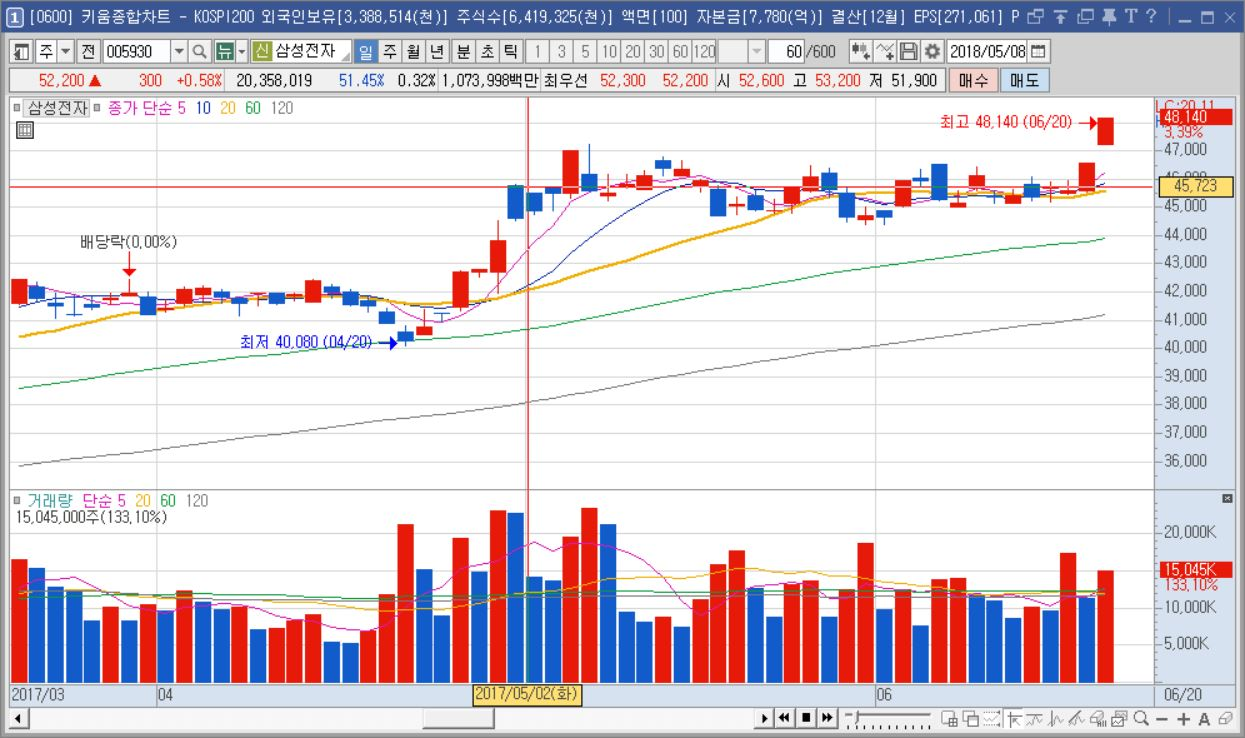up: (398, 111, 1116, 680)
